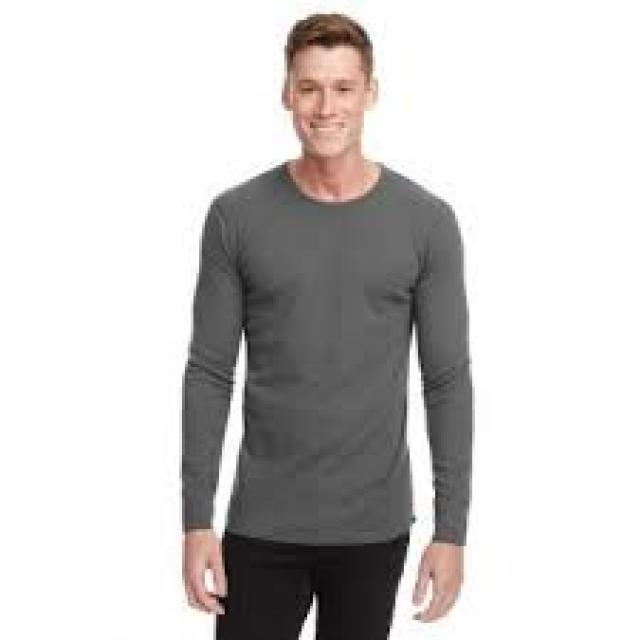plain: (127, 146, 518, 573)
